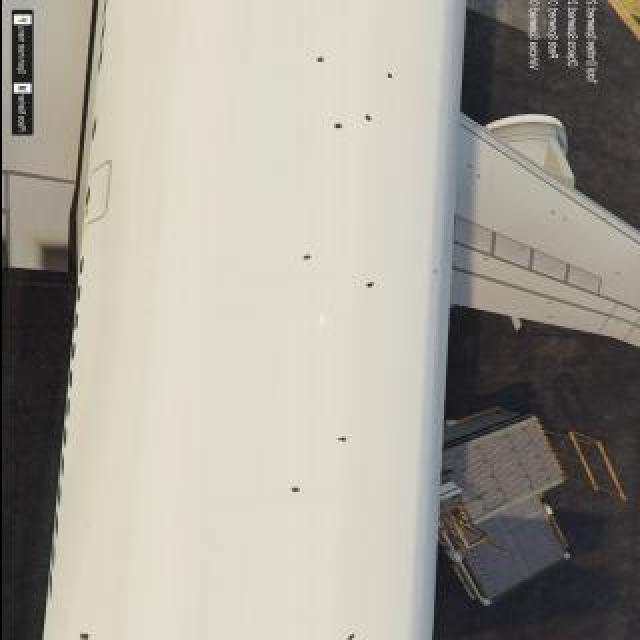crack: (354, 282, 378, 290), (284, 485, 302, 495), (295, 254, 313, 262), (334, 437, 350, 445), (329, 123, 345, 131), (310, 56, 326, 62), (379, 72, 391, 80), (430, 270, 442, 276), (364, 115, 372, 123), (465, 164, 473, 170), (516, 246, 528, 250), (474, 176, 482, 180), (547, 210, 555, 214), (561, 217, 569, 221), (545, 301, 553, 305), (545, 316, 553, 320), (612, 321, 620, 325), (612, 272, 620, 276), (482, 257, 488, 261)
